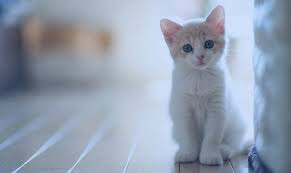Gato: (149, 2, 241, 86)
